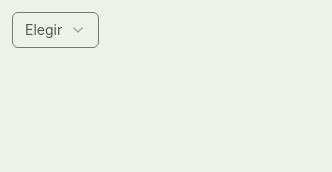
Scenario: Select › abre la lista y expone las opciones con estilo de popover
This screenshot has width=332, height=172.
What coordinates should you click on to do the following:
click the dropdown named "Recurso"
I would click on:
 (56, 30)
Its box is [12,12,99,48].
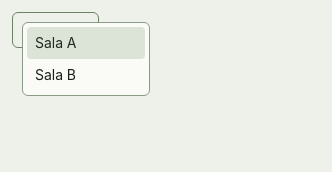
Expected: the dropdown named "Recurso" is expanded, [12,12,99,48]
Expected: the options read "Sala A", "Sala B", in this order, [27,27,145,59]; [35,66,76,83]
